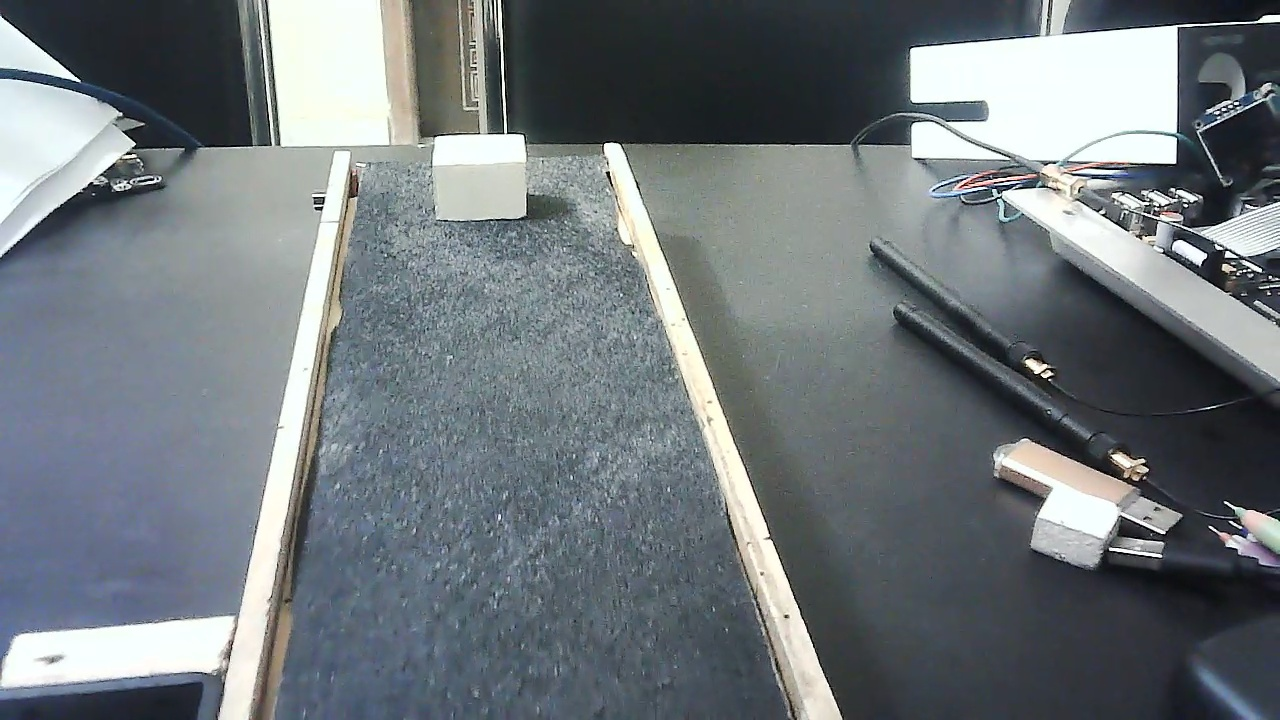Medium: (431, 130, 526, 225)
